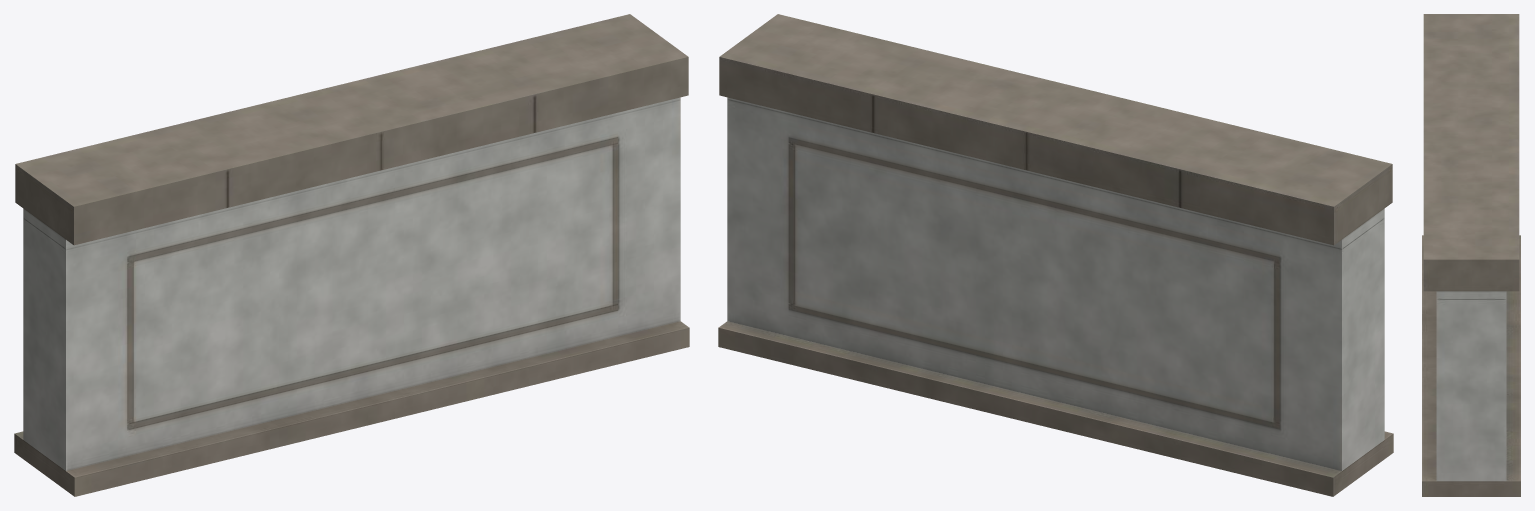
Rendered from charter_parapet.glb.
3 views of the same model, side by side, from view 1: azimuth 30°, elevation 25°; view 2: azimuth 150°, elevation 25°; view 3: azimuth 270°, elevation 25° (orthographic). The views are drawn at different scales.
Parts seen in each view (by area): view 1: charter_parapet; view 2: charter_parapet; view 3: charter_parapet.
Part boxes in pixels (x1,y1,x2,y2): charter_parapet: [14, 14, 689, 496]; charter_parapet: [718, 14, 1393, 496]; charter_parapet: [1422, 14, 1520, 496].
Size of the model in its own units: 2 by 0.9 by 0.34.
Materials: 1 (1 with a texture image).
